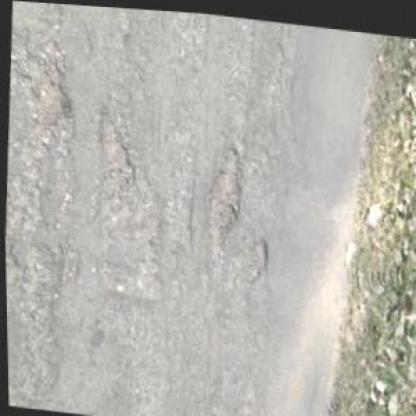pothole: (205, 141, 244, 252), (22, 71, 75, 141), (98, 122, 138, 197), (22, 240, 56, 295), (240, 233, 269, 283)
